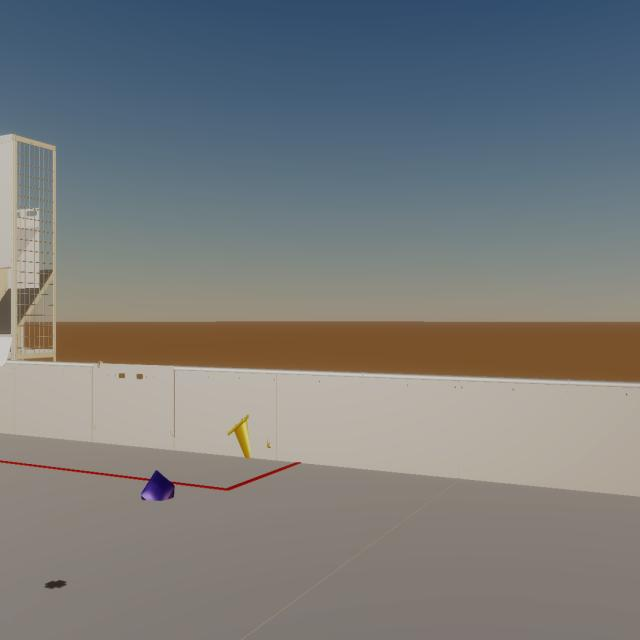frc_cone: (227, 414, 251, 458), (267, 439, 271, 448)
frc_cube: (141, 470, 175, 500)
